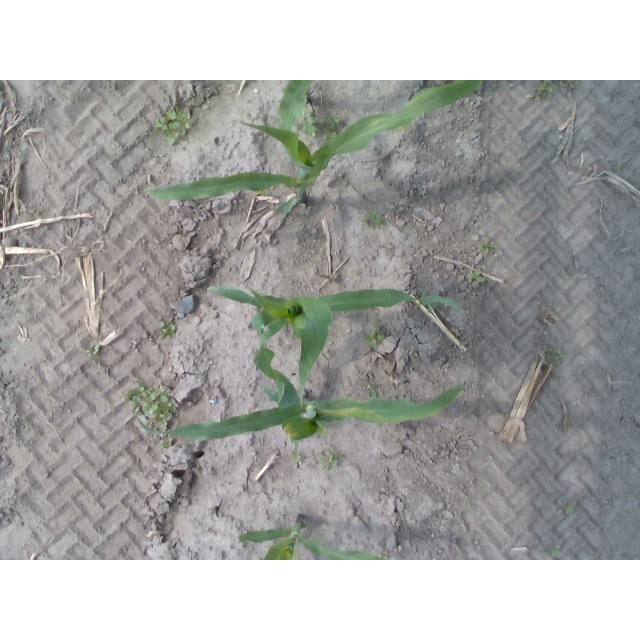Maize: (145, 81, 486, 216), (141, 313, 468, 442), (206, 287, 463, 410), (239, 514, 382, 560), (276, 81, 316, 128)
Weeds: (128, 388, 177, 428), (157, 108, 191, 145), (527, 81, 581, 99), (304, 117, 340, 136), (157, 321, 176, 339), (367, 326, 385, 344), (319, 454, 338, 470), (479, 239, 492, 257), (364, 213, 385, 223), (468, 269, 484, 281), (291, 451, 301, 466), (551, 545, 562, 555), (565, 506, 574, 514), (557, 349, 564, 357), (86, 349, 94, 355), (544, 347, 551, 353)
